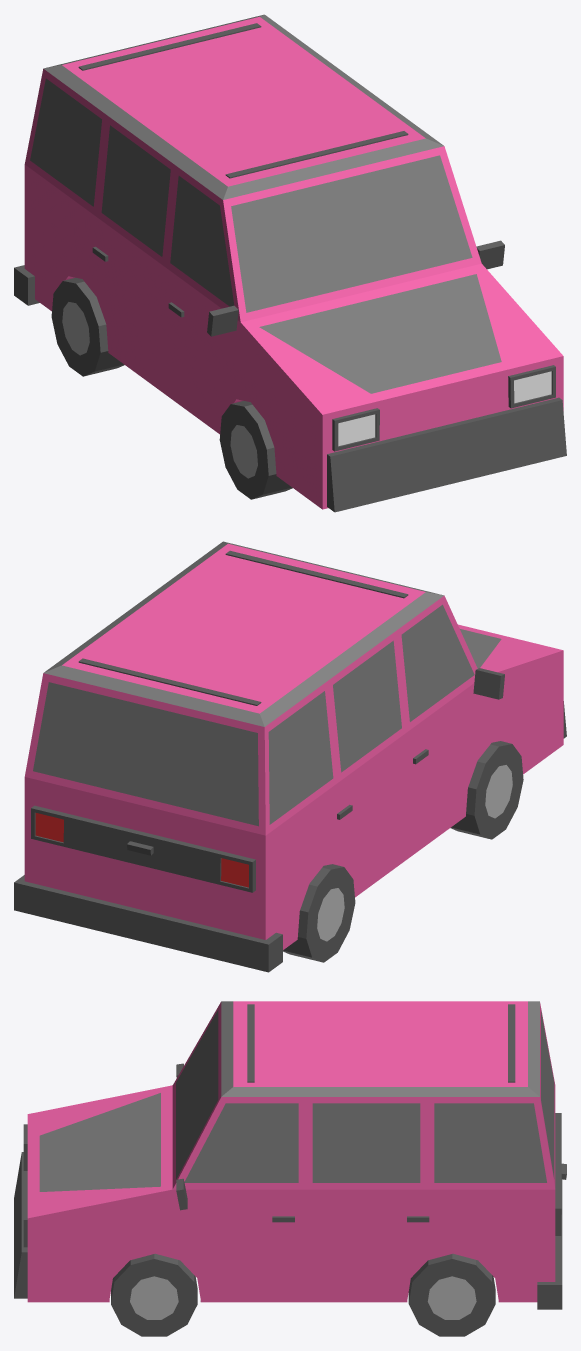
File: SM_Car_08_05.FBX
3 views of the same model, one above another, from view 1: azimuth 30°, elevation 25°; view 2: azimuth 150°, elevation 25°; view 3: azimuth 270°, elevation 25° (orthographic). The views are drawn at different scales.
Parts seen in each view (by area): view 1: SM_Car_08_05, SM_Wheel_RBack001, SM_Wheel_LFront002; view 2: SM_Car_08_05, SM_Wheel_LFront002, SM_Wheel_RBack001; view 3: SM_Car_08_05, SM_Wheel_LBack001, SM_Wheel_LFront001.
Boxes of the visible parts, x1=… form: SM_Car_08_05: x1=14, y1=14, x2=566, y2=512; SM_Wheel_RBack001: x1=51, y1=277, x2=124, y2=376; SM_Wheel_LFront002: x1=219, y1=401, x2=292, y2=499; SM_Car_08_05: x1=14, y1=541, x2=566, y2=972; SM_Wheel_LFront002: x1=450, y1=741, x2=523, y2=839; SM_Wheel_RBack001: x1=283, y1=864, x2=355, y2=962; SM_Car_08_05: x1=14, y1=1001, x2=566, y2=1309; SM_Wheel_LBack001: x1=408, y1=1253, x2=495, y2=1336; SM_Wheel_LFront001: x1=111, y1=1253, x2=197, y2=1336.
Bounding box in the file's own units: 1.7 × 1.5 × 3.15.
Materials: 1 (1 with a texture image).
